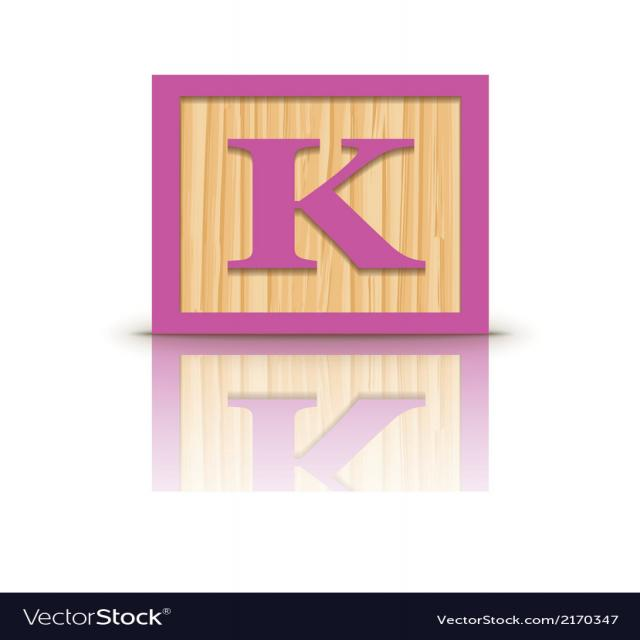K: (202, 112, 434, 299)
